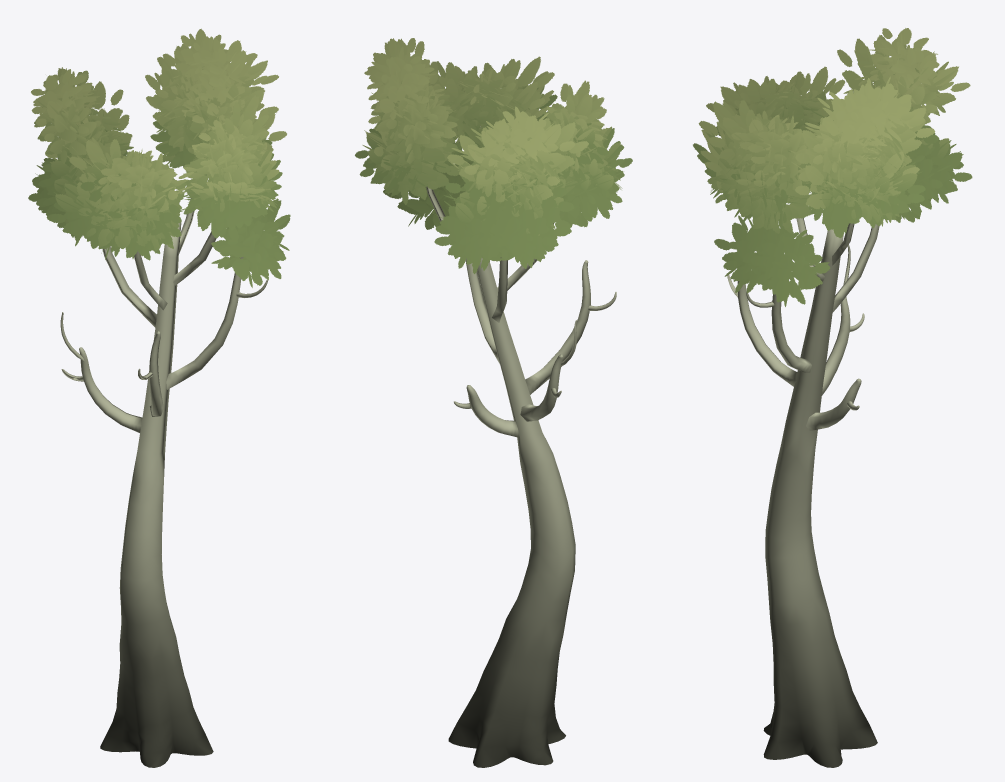
Rendered from birch-open-branches.glb.
The picture shows the model from 3 angles, left to right: view 1: azimuth 30°, elevation 25°; view 2: azimuth 150°, elevation 25°; view 3: azimuth 270°, elevation 25°; orthographic projection. The views are drawn at different scales.
Parts seen in each view (by area): view 1: birch-open-branches runtime mesh; view 2: birch-open-branches runtime mesh; view 3: birch-open-branches runtime mesh.
Boxes of the visible parts, bbox=[...] form: birch-open-branches runtime mesh: bbox=[28, 28, 290, 767]; birch-open-branches runtime mesh: bbox=[355, 38, 632, 767]; birch-open-branches runtime mesh: bbox=[693, 28, 972, 767].
Bounding box in the file's own units: 1.95 × 4.8 × 1.91.
Materials: 2 (2 with a texture image).
